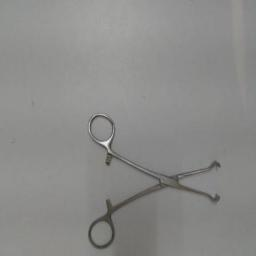Babcock Tissue Forceps: (84, 110, 224, 254)
